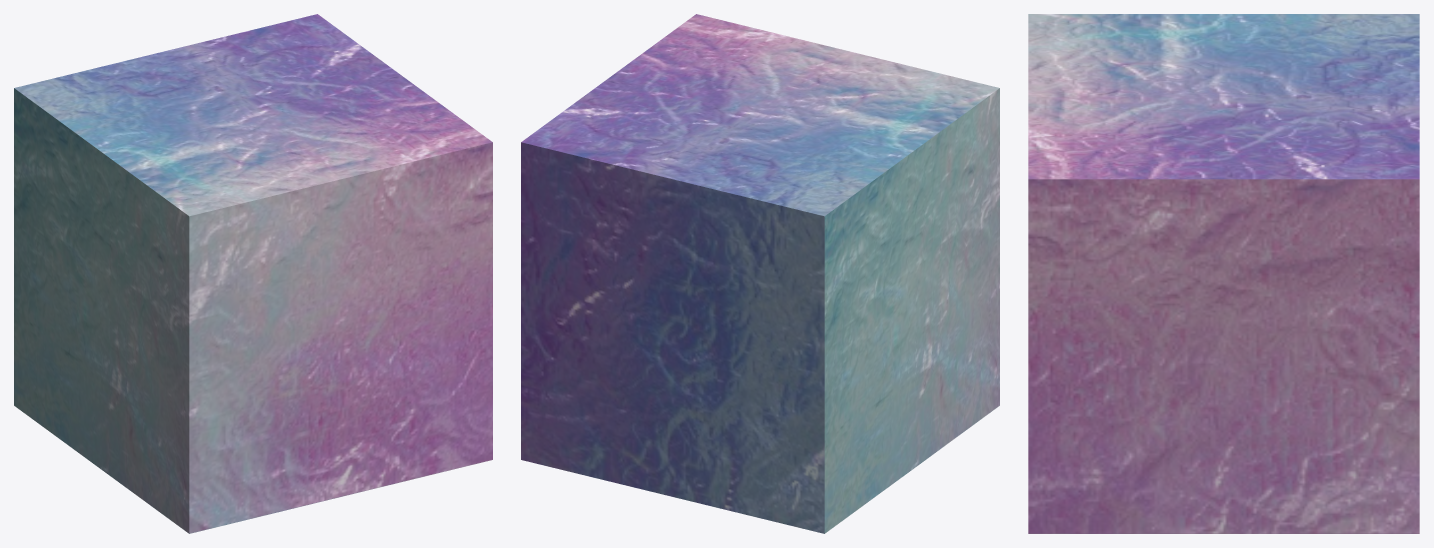
The model's file is hiddenbox.obj.
The picture shows the model from 3 angles, left to right: view 1: azimuth 30°, elevation 25°; view 2: azimuth 150°, elevation 25°; view 3: azimuth 270°, elevation 25°; orthographic projection. The views are drawn at different scales.
Parts seen in each view (by area): view 1: pCube1; view 2: pCube1; view 3: pCube1.
Boxes of the visible parts, x1=… form: pCube1: x1=14, y1=14, x2=492, y2=533; pCube1: x1=521, y1=14, x2=999, y2=533; pCube1: x1=1028, y1=14, x2=1419, y2=533.
Size of the model in its own units: 1 by 1 by 1.
Materials: 1 (1 with a texture image).
